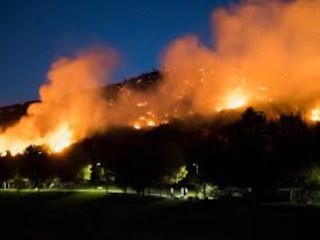fire: (45, 131, 72, 156), (219, 92, 244, 115), (299, 107, 320, 123)
smoke: (149, 11, 318, 92), (13, 55, 106, 120)
